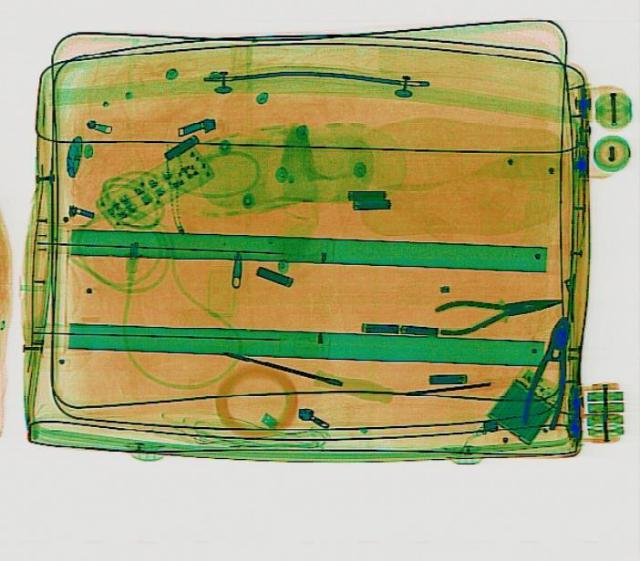Pliers: (516, 312, 584, 429), (432, 284, 562, 335)
